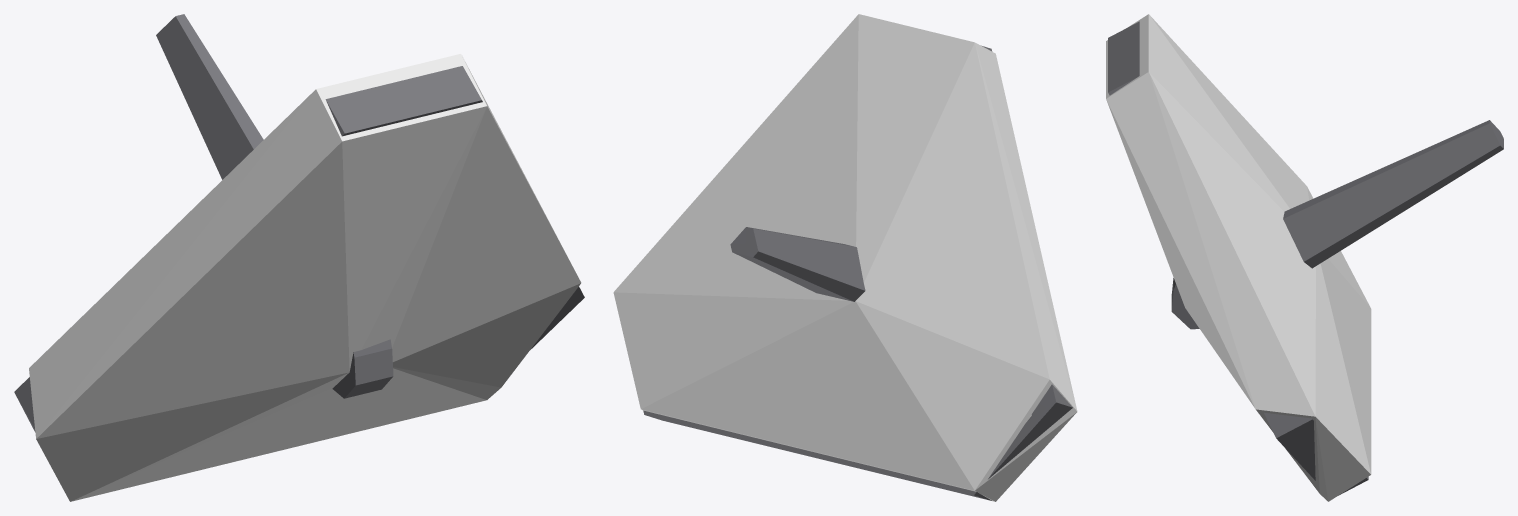
Rendered from SM_Prop_Satellite_04.fbx.
3 views of the same model, side by side, from view 1: azimuth 30°, elevation 25°; view 2: azimuth 150°, elevation 25°; view 3: azimuth 270°, elevation 25° (orthographic). The views are drawn at different scales.
Parts seen in each view (by area): view 1: SM_Prop_Satellite_04_ConvexHulls, SM_Prop_Satellite_04_LOD0; view 2: SM_Prop_Satellite_04_ConvexHulls, SM_Prop_Satellite_04_LOD0; view 3: SM_Prop_Satellite_04_ConvexHulls, SM_Prop_Satellite_04_LOD0.
Boxes of the visible parts, left/top/right/bottom form: SM_Prop_Satellite_04_ConvexHulls: left=29, top=54, right=581, bottom=501; SM_Prop_Satellite_04_LOD0: left=14, top=14, right=584, bottom=431; SM_Prop_Satellite_04_ConvexHulls: left=613, top=14, right=1077, bottom=501; SM_Prop_Satellite_04_LOD0: left=643, top=45, right=1072, bottom=500; SM_Prop_Satellite_04_ConvexHulls: left=1106, top=14, right=1371, bottom=501; SM_Prop_Satellite_04_LOD0: left=1108, top=21, right=1503, bottom=495.
Size of the model in its own units: 113 by 149 by 118.
1 material, 1 textured.
